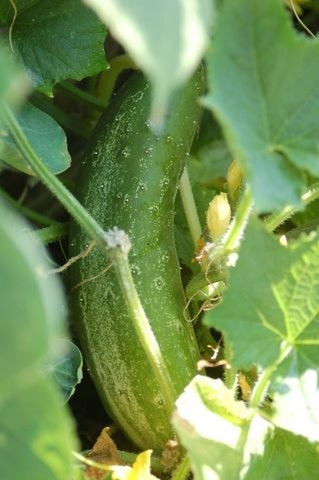cucumber: (66, 48, 198, 452)
